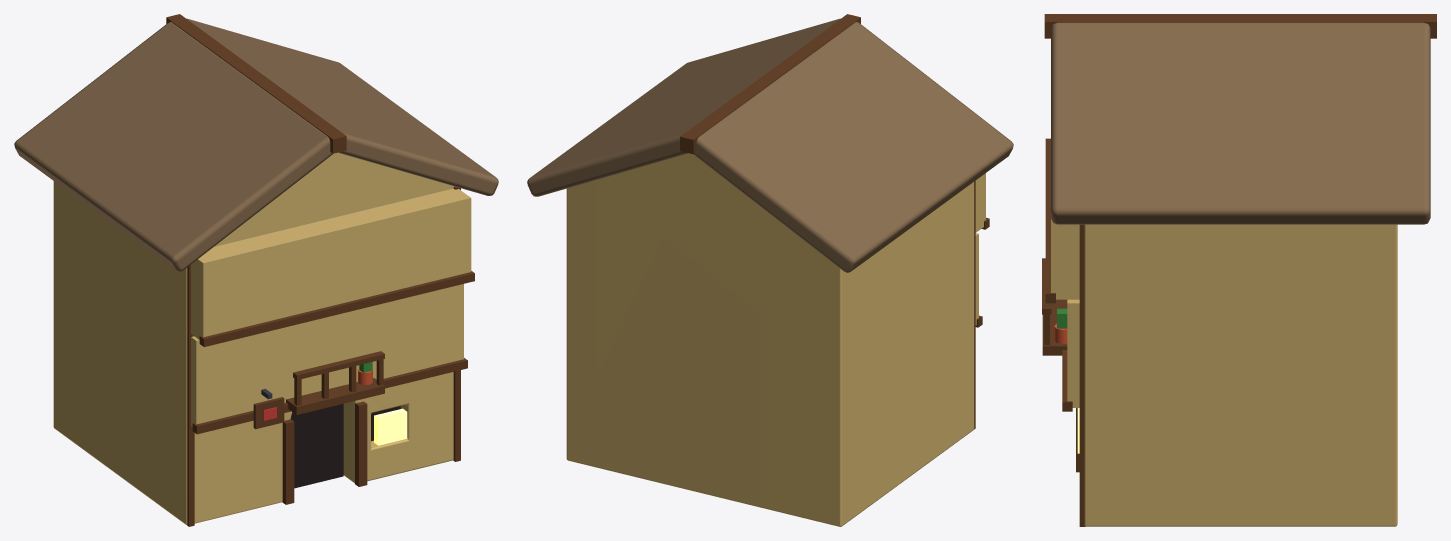
Rendered from Buildings__hotel.glb.
3 renders of one model, left to right at view 1: azimuth 30°, elevation 25°; view 2: azimuth 150°, elevation 25°; view 3: azimuth 270°, elevation 25°, orthographic. The views are drawn at different scales.
Parts seen in each view (by area): view 1: hotel_mesh; view 2: hotel_mesh; view 3: hotel_mesh.
Boxes of the visible parts, bbox=[...] form: hotel_mesh: bbox=[14, 14, 498, 526]; hotel_mesh: bbox=[527, 14, 1013, 526]; hotel_mesh: bbox=[1042, 14, 1436, 526].
Bounding box in the file's own units: 2.15 × 2.3 × 1.91.
